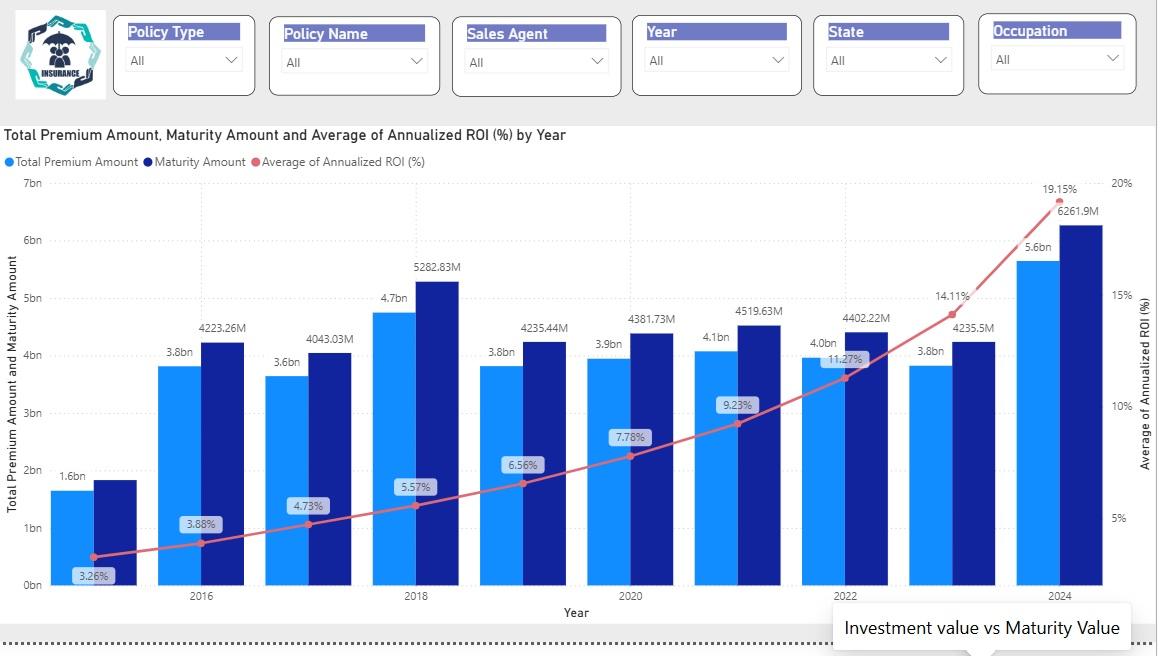

The page's visual inventory and layout, read from the dashboard file:
{"tool":"powerbi","page":{"name":"Investment value vs Maturity Value","canvas":[1280,720],"ordinal":4},"visuals":[{"type":"image","box":[17.7,16.1,100,108.1],"z":0},{"type":"slicer","fields":{"Values":["DM Policy_Type.Policy Type"]},"box":[126.3,25.9,157.1,89.1],"z":1000},{"type":"slicer","fields":{"Values":["DM Policy_Protection_Plan.Policy Name"]},"box":[297.9,27.5,189.4,87.4],"z":2000},{"type":"slicer","fields":{"Values":["DM Insurance_Agent_Table.Sales Agent"]},"box":[500.3,27.5,187.1,88.7],"z":3000},{"type":"slicer","fields":{"Values":["FCT Insurance_Policy_Table.Start Date.Variation.Date Hierarchy.Year"]},"box":[701.1,25.9,187.8,89.1],"z":4000},{"type":"slicer","fields":{"Values":["DM Customer_Detail_Table.Occupation"]},"box":[1083.3,24.3,174.9,89.1],"z":5000},{"type":"slicer","fields":{"Values":["DM Customer_Detail_Table.State"]},"box":[901.9,25.9,166.8,89.1],"z":6000},{"type":"lineClusteredColumnComboChart","fields":{"Category":["FCT Insurance_Policy_Table.Start Date.Variation.Date Hierarchy.Year","FCT Insurance_Policy_Table.Start Date.Variation.Date Hierarchy.Quarter","FCT Insurance_Policy_Table.Start Date.Variation.Date Hierarchy.Month","FCT Insurance_Policy_Table.Start Date.Variation.Date Hierarchy.Day"],"Y":["Sum(FCT Insurance_Policy_Table.Total Premium Amount)","Sum(FCT Insurance_Policy_Table.Maturity Amount)"],"Y2":["Avg(FCT Insurance_Policy_Table.Annualized ROI (%))"]},"box":[0,149.4,1279.5,550.9],"z":7001}]}

Visuals, with their boxes in screenshot pixels (x1, y1, x2, y2), scaled from the page's 1280x720 canvas onto the 1168x656 screenshot:
image: rect(16, 15, 107, 113)
slicer - DM Policy_Type.Policy Type: rect(115, 24, 259, 105)
slicer - DM Policy_Protection_Plan.Policy Name: rect(272, 25, 445, 105)
slicer - DM Insurance_Agent_Table.Sales Agent: rect(457, 25, 627, 106)
slicer - FCT Insurance_Policy_Table.Start Date.Variation.Date Hierarchy.Year: rect(640, 24, 811, 105)
slicer - DM Customer_Detail_Table.Occupation: rect(989, 22, 1148, 103)
slicer - DM Customer_Detail_Table.State: rect(823, 24, 975, 105)
lineClusteredColumnComboChart - FCT Insurance_Policy_Table.Start Date.Variation.Date Hierarchy.Year x FCT Insurance_Policy_Table.Start Date.Variation.Date Hierarchy.Quarter: rect(0, 136, 1167, 638)
